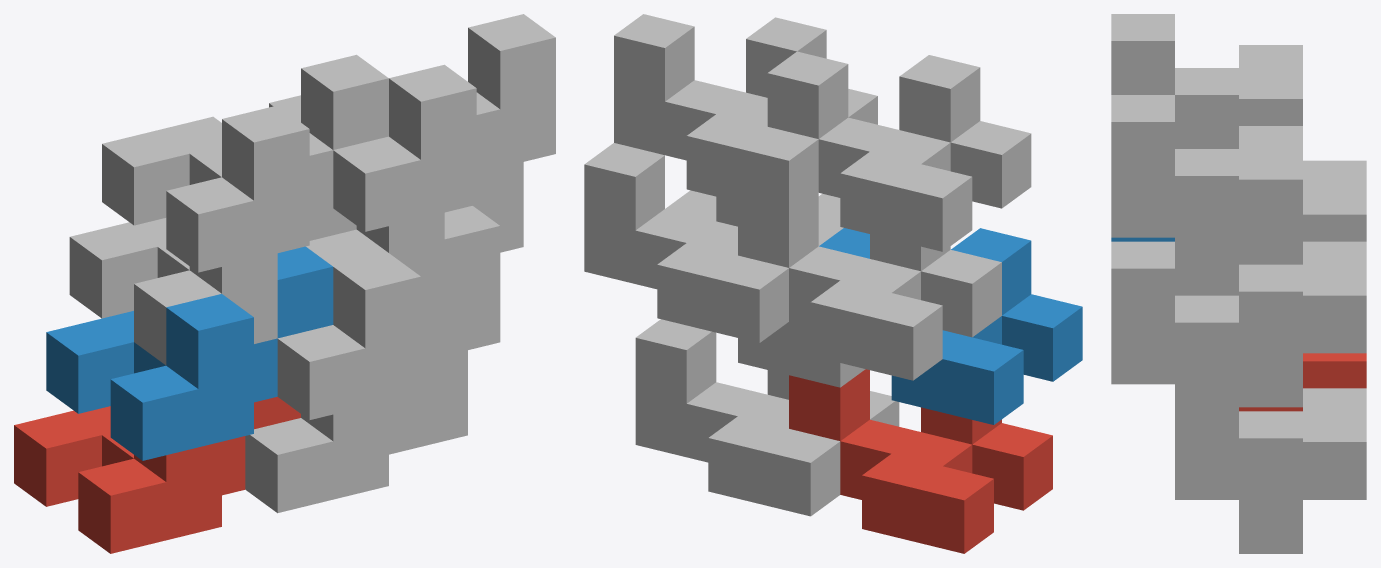
Rendered from tiling.obj.
3 views of the same model, side by side, from view 1: azimuth 30°, elevation 25°; view 2: azimuth 150°, elevation 25°; view 3: azimuth 270°, elevation 25° (orthographic). The views are drawn at different scales.
Visible parts, largest first — view 1: copy_1_domain_4, copy_1_domain_2, copy_1_domain_8, copy_1_domain_6, copy_1_domain_1, copy_1_domain_5, copy_1_domain_3, copy_1_domain_7; view 2: copy_1_domain_4, copy_1_domain_8, copy_1_domain_3, copy_1_domain_1, copy_1_domain_5, copy_1_domain_7, copy_1_domain_2, copy_1_domain_6; view 3: copy_1_domain_8, copy_1_domain_5, copy_1_domain_6, copy_1_domain_7, copy_1_domain_4, copy_1_domain_3, copy_1_domain_1.
Boxes of the visible parts, bbox=[...] form: copy_1_domain_4: bbox=[102, 54, 388, 272]; copy_1_domain_2: bbox=[46, 246, 333, 460]; copy_1_domain_8: bbox=[269, 14, 555, 231]; copy_1_domain_6: bbox=[277, 206, 500, 419]; copy_1_domain_1: bbox=[14, 396, 300, 553]; copy_1_domain_5: bbox=[245, 350, 467, 513]; copy_1_domain_3: bbox=[69, 208, 356, 365]; copy_1_domain_7: bbox=[306, 162, 523, 303]; copy_1_domain_4: bbox=[767, 51, 1031, 251]; copy_1_domain_8: bbox=[614, 14, 877, 214]; copy_1_domain_3: bbox=[738, 193, 1001, 380]; copy_1_domain_1: bbox=[789, 369, 1052, 553]; copy_1_domain_5: bbox=[635, 319, 899, 516]; copy_1_domain_7: bbox=[584, 143, 843, 342]; copy_1_domain_2: bbox=[819, 228, 1082, 424]; copy_1_domain_6: bbox=[665, 190, 865, 387]; copy_1_domain_8: bbox=[1111, 95, 1302, 291]; copy_1_domain_5: bbox=[1175, 388, 1366, 553]; copy_1_domain_6: bbox=[1111, 241, 1238, 438]; copy_1_domain_7: bbox=[1175, 241, 1366, 407]; copy_1_domain_4: bbox=[1111, 14, 1302, 148]; copy_1_domain_3: bbox=[1239, 160, 1366, 264]; copy_1_domain_1: bbox=[1239, 353, 1366, 411].
Size of the model in its own units: 8 by 7 by 4.
